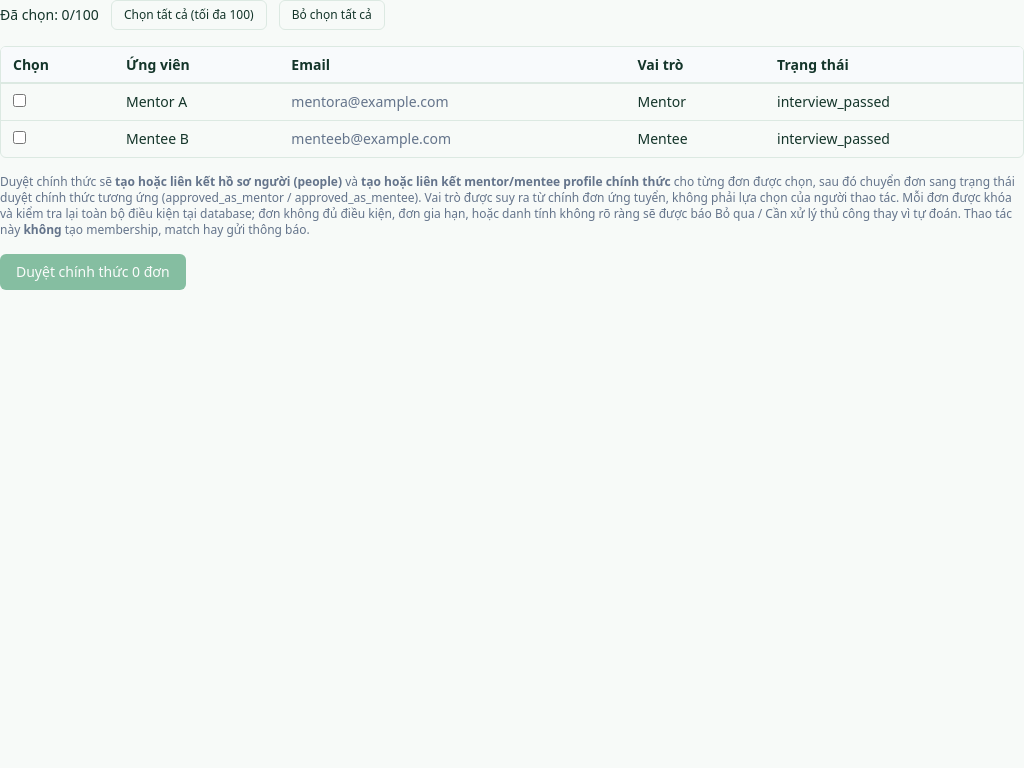
Scenario: BulkApprovalForm — mixed mentor + mentee selection › opening the confirm dialog states that profiles will be created/reused, and derives role from the application
What coordinates should you click on to do the following:
click the checkbox next to "Mentor A"
I would click on:
 (20, 100)
Its box is x1=13 y1=94 x2=26 y2=107.
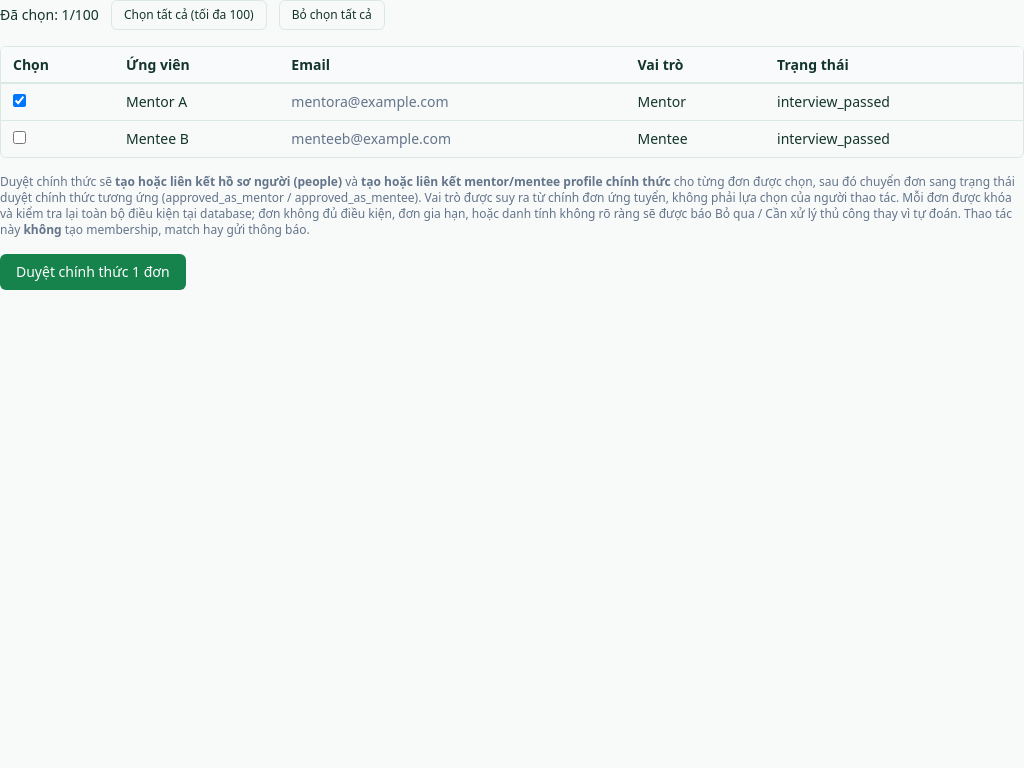
What coordinates should you click on to do the following:
click the checkbox next to "Mentee B"
I would click on:
 (20, 138)
Its box is x1=13 y1=131 x2=26 y2=144.
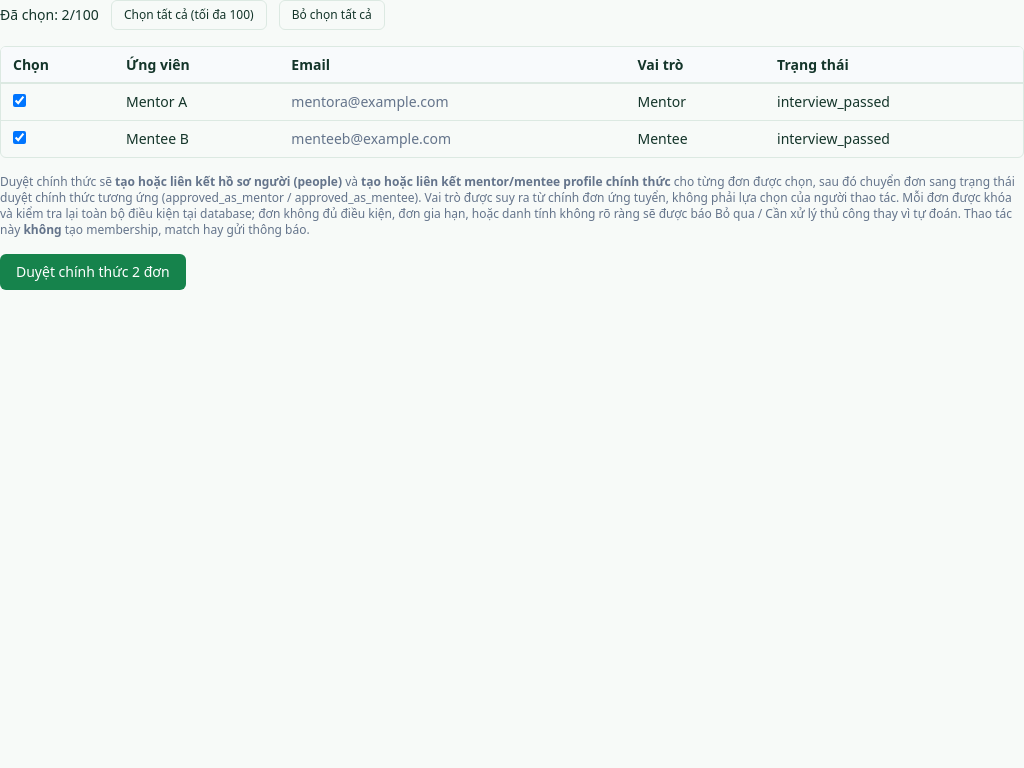
What coordinates should you click on to do the following:
click the button "Duyệt chính thức 2 đơn"
I would click on:
 (93, 272)
Its box is x1=0 y1=254 x2=186 y2=290.
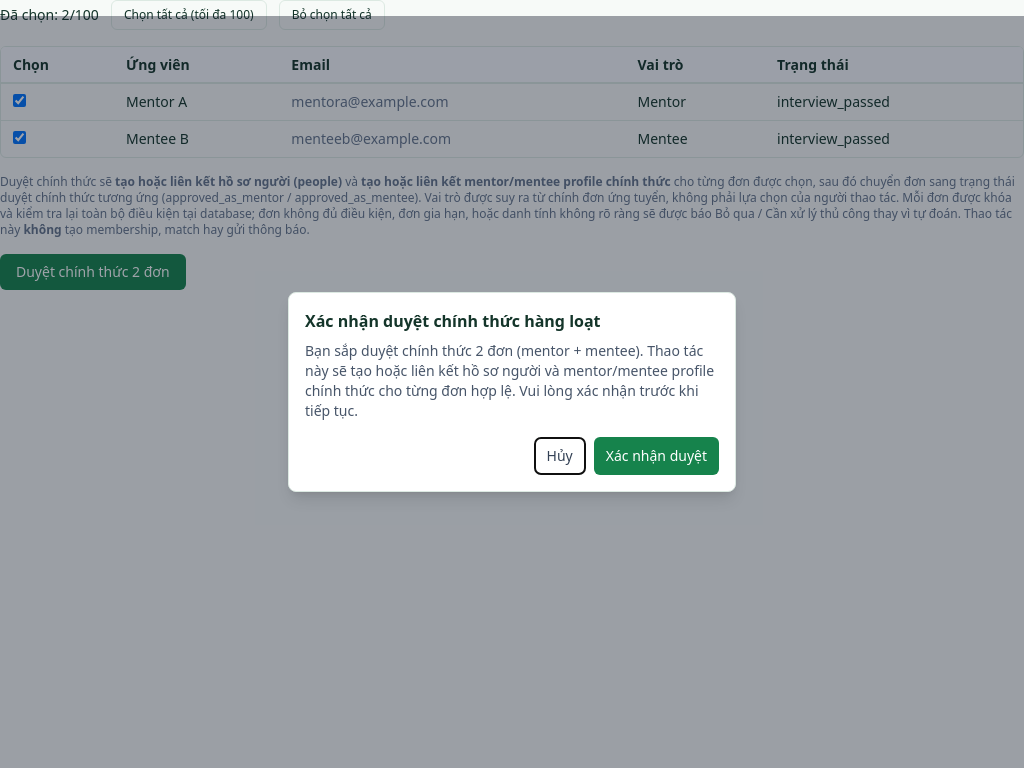
expect the text "mentor/mentee profile chính thức" is shown: met, box x1=305 y1=341 x2=714 y2=420
